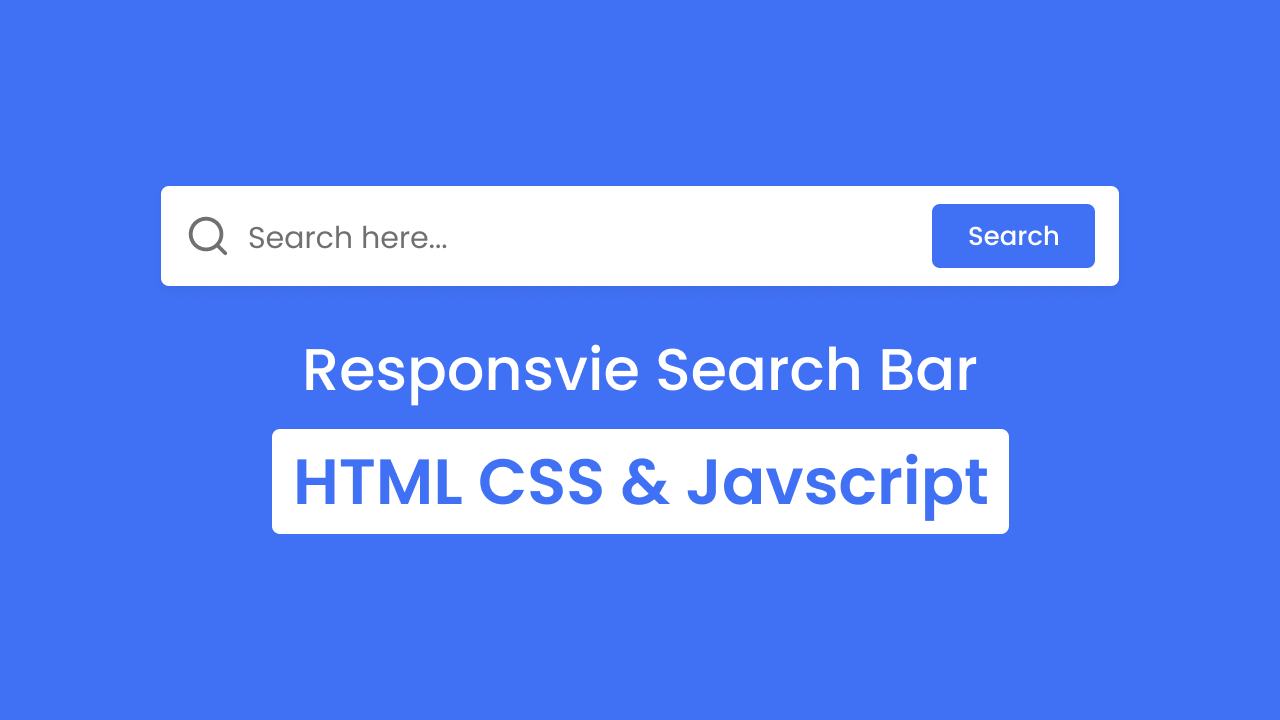search_box: (163, 187, 1123, 289)
